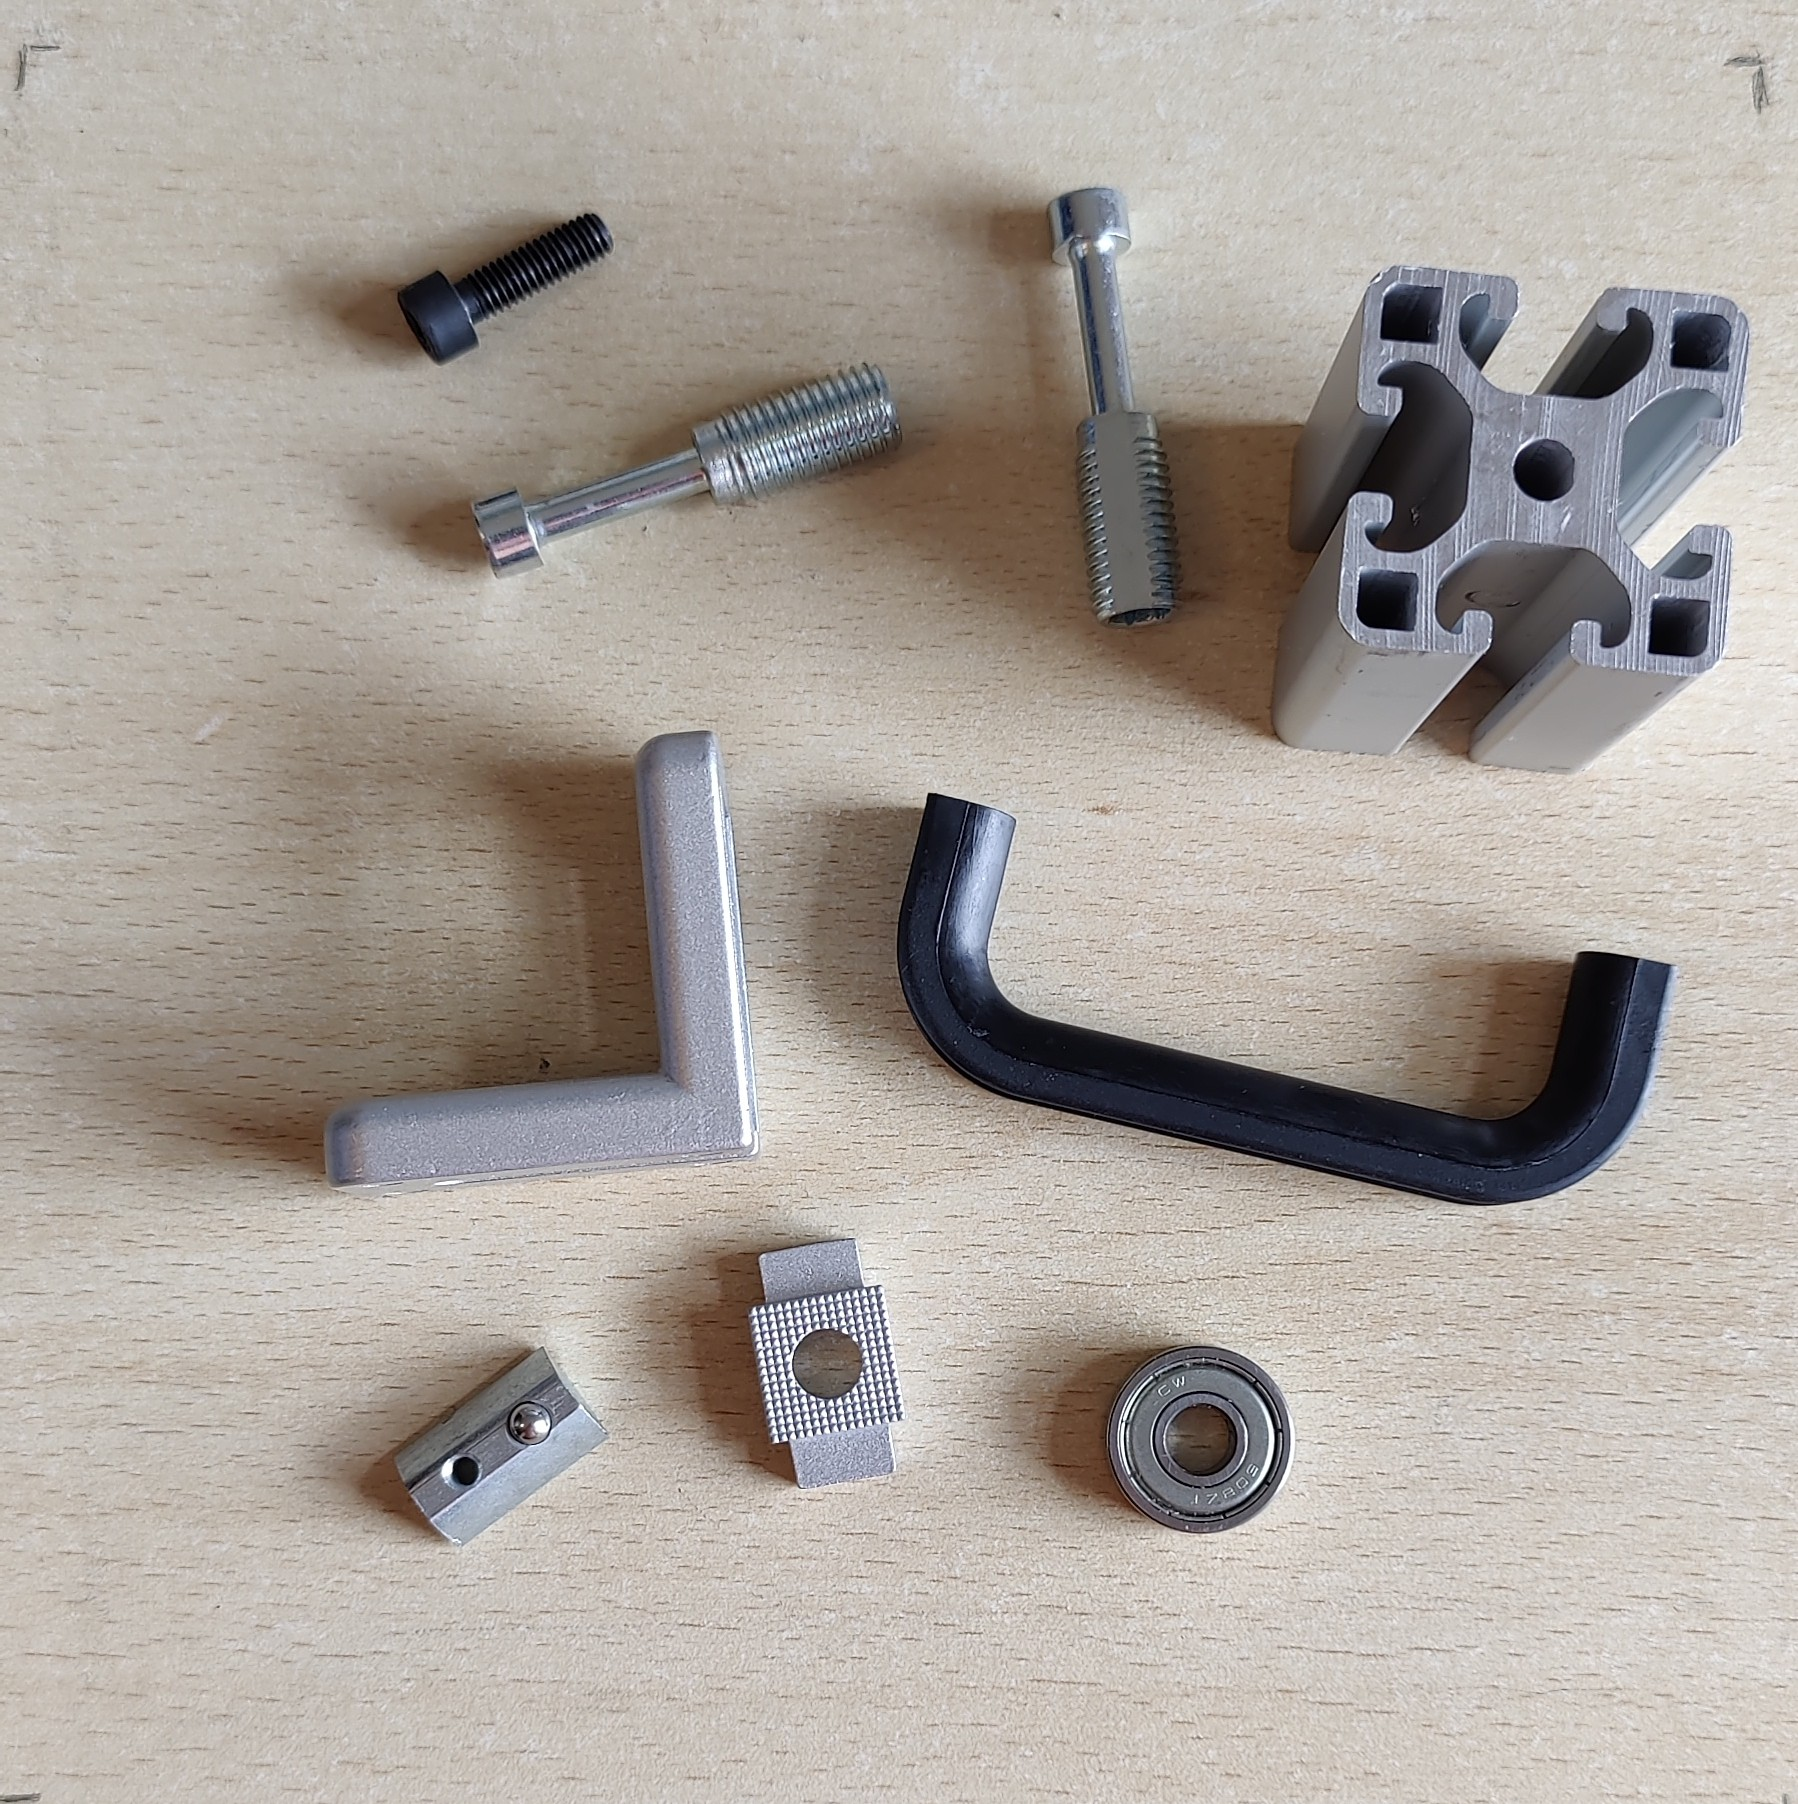Aluminium Extension: (1266, 260, 1754, 779)
Ball Bearing: (1105, 1341, 1296, 1537)
Multiwinkel: (323, 728, 766, 1205)
Pull Handle: (891, 788, 1683, 1210)
Shoulder Socket Head Cap Screw: (469, 356, 906, 583), (1046, 184, 1184, 634)
Socket Head Cap Screw: (395, 211, 619, 367)
T Nut Square: (744, 1234, 907, 1491)
T Spring Nut: (394, 1341, 611, 1547)
